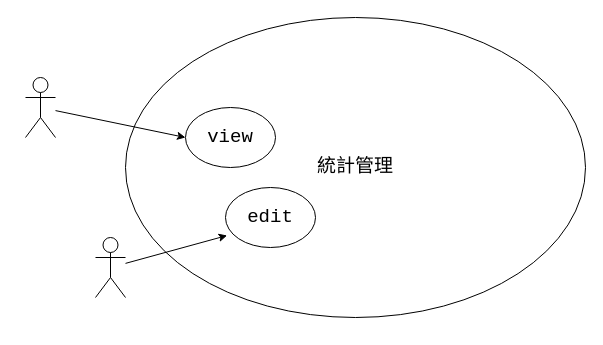
Image size: 603x345. Some labels were removed from this diagram. Each missing label, with the centre of its shape:
"admin" belongs at point 110,267.
"user" belongs at point 40,107.
